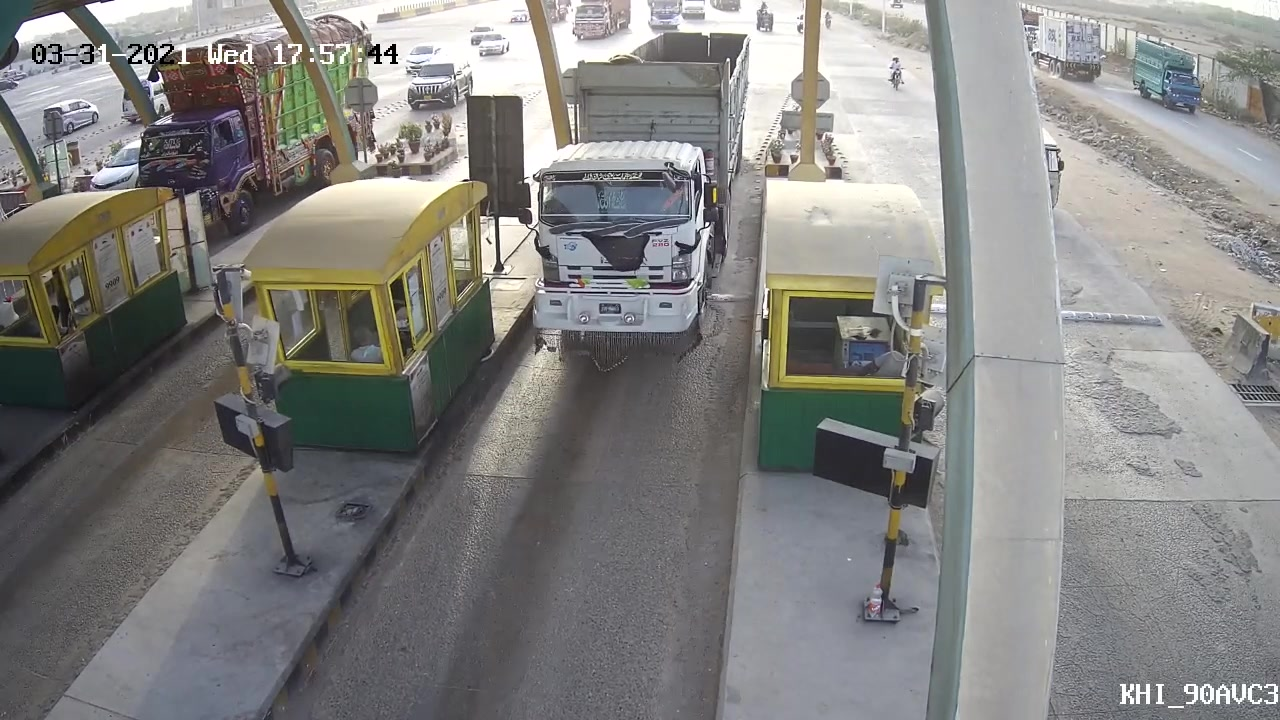F6: (517, 21, 759, 363)
